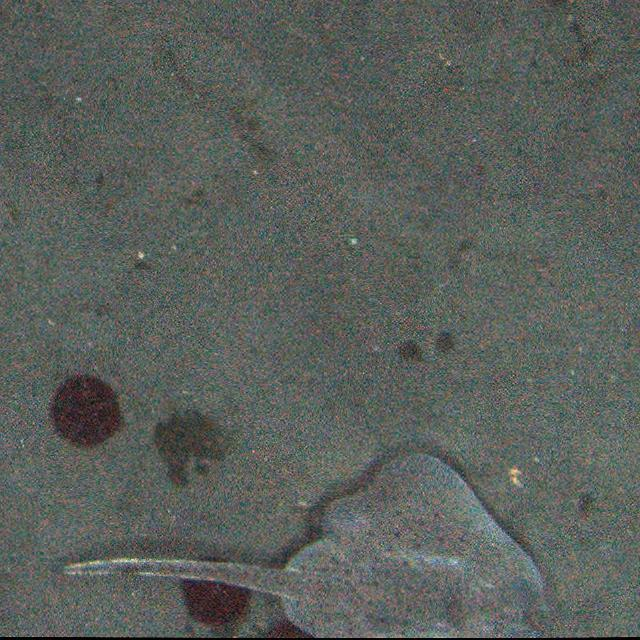skate: (64, 447, 556, 640)
